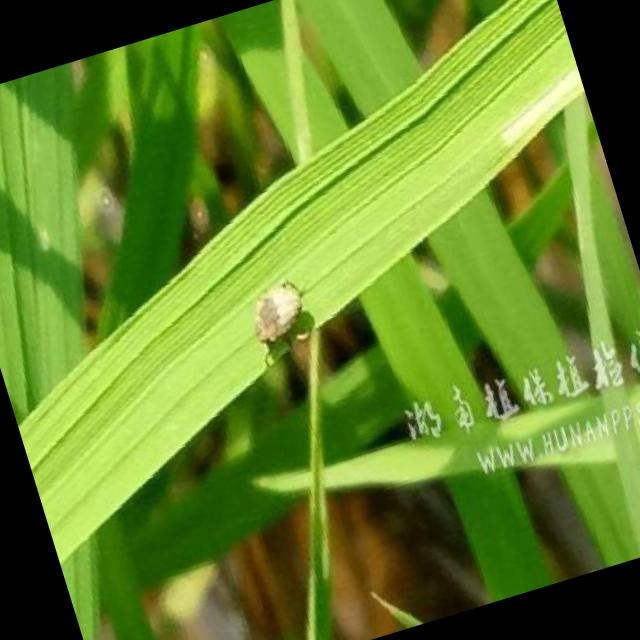rice-bug: (246, 274, 320, 356)
